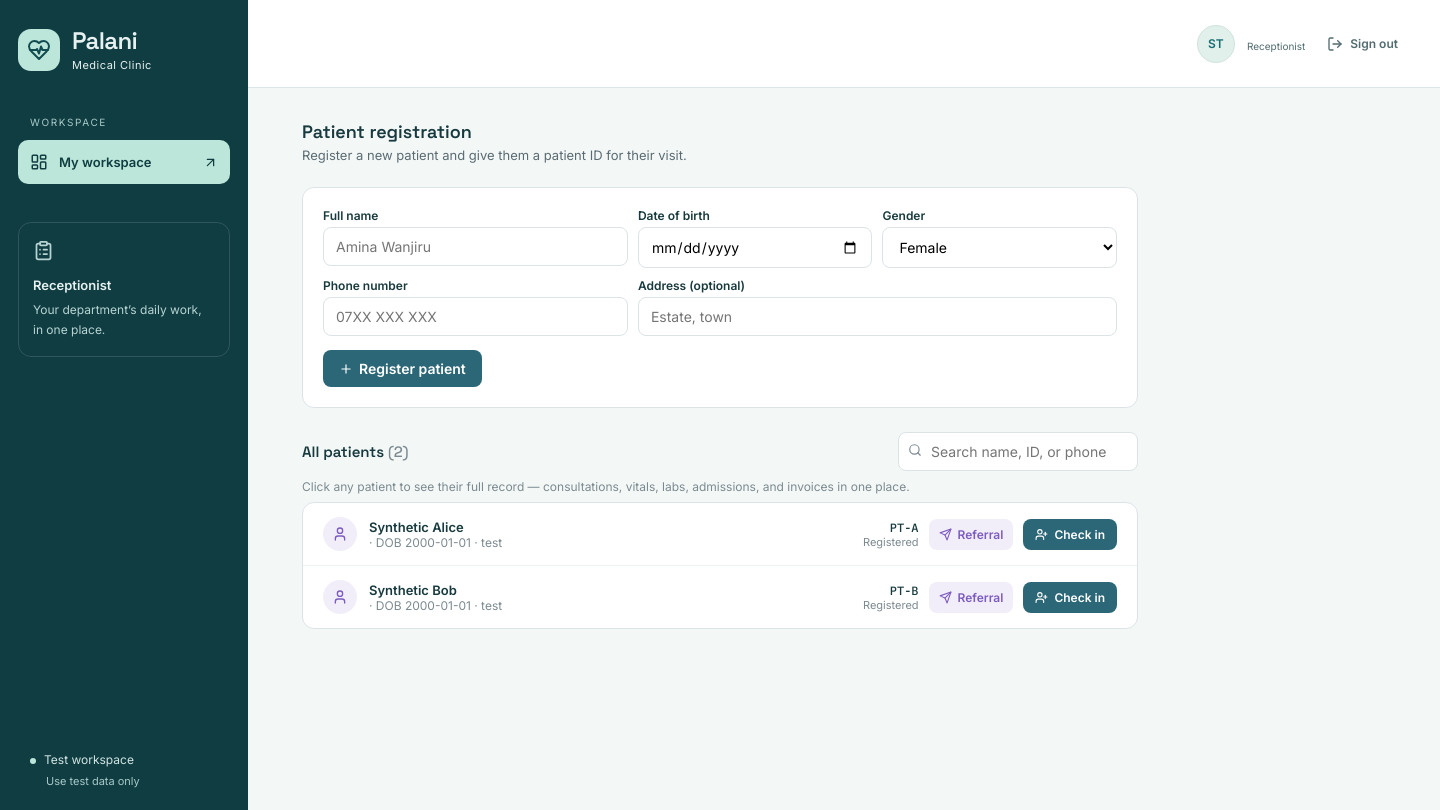
Test: Reception check-in recovery › uses one request and retains a retry outside the filtered list
Click the button with aria-label "Check in Synthetic Alice" at (1070, 534), box [1023,518,1117,550]
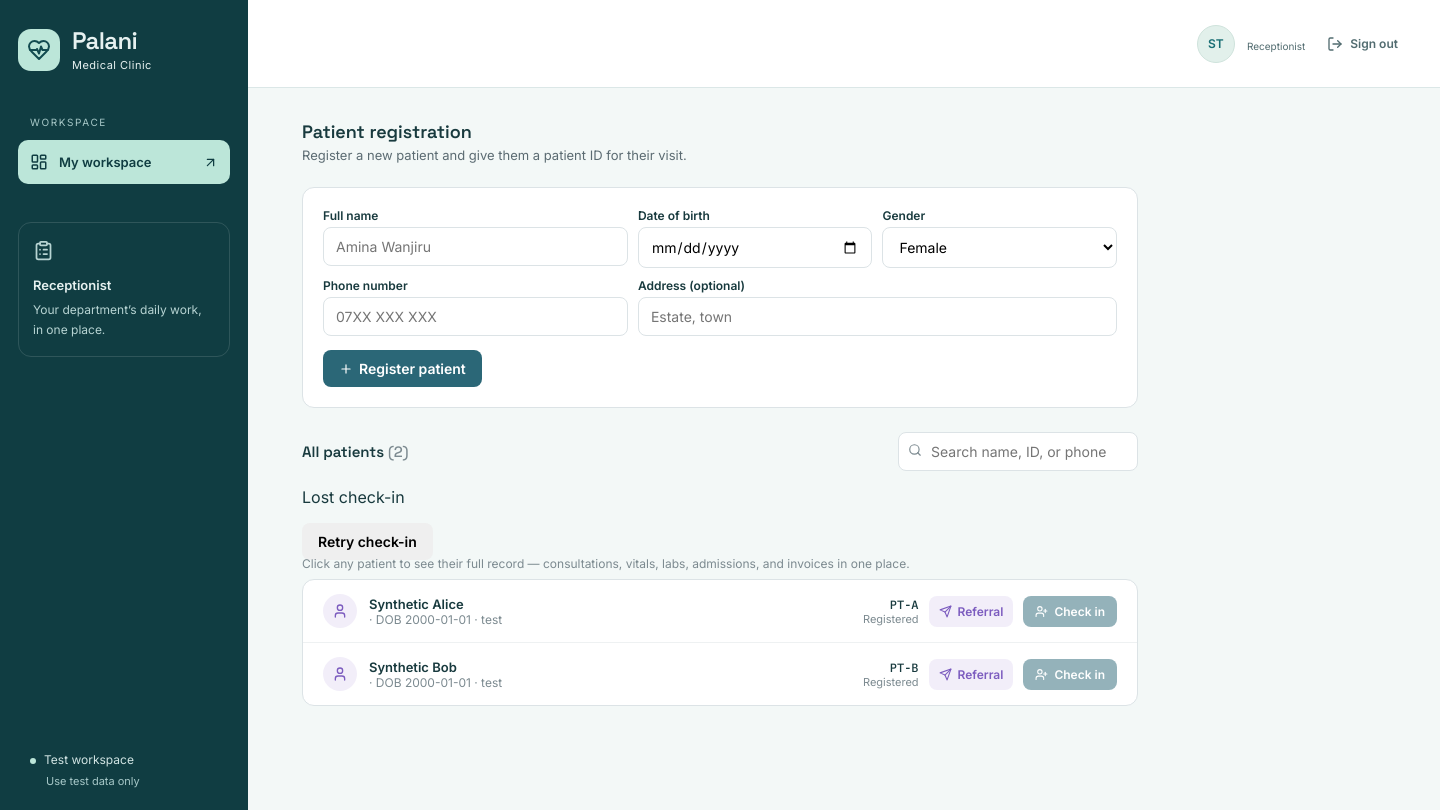
Type "Bob" into the field with placeholder "Search name, ID, or phone" at (1018, 452), box [898,432,1138,471]
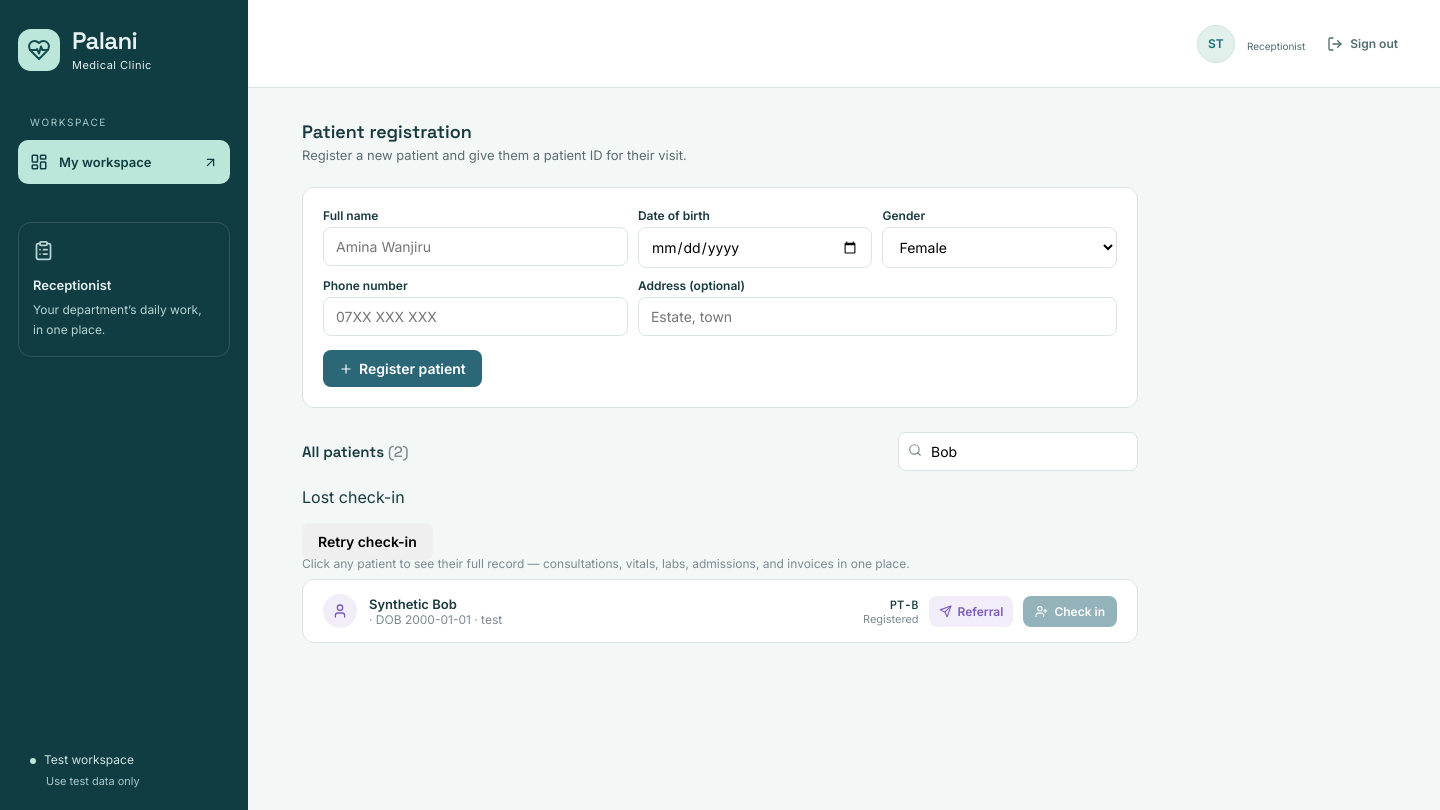
Click the button "Retry check-in" at (367, 542), box [302,523,433,560]
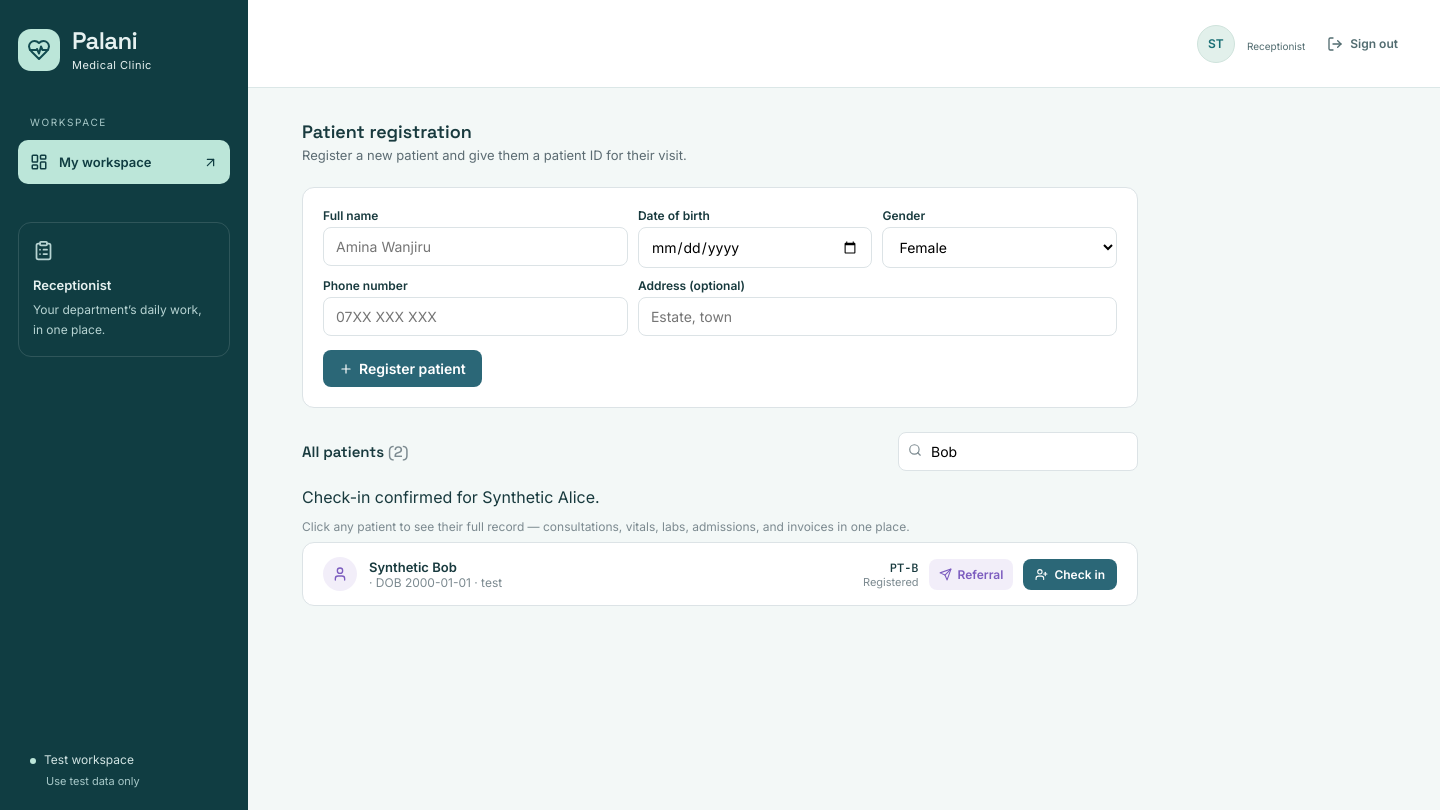
Now the text "Check-in confirmed for Synthetic Alice." is shown, box [302,487,600,507]
